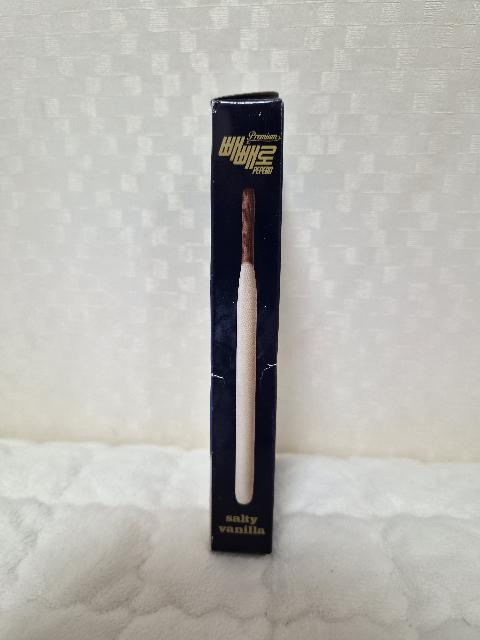pepero: (210, 91, 284, 555)
